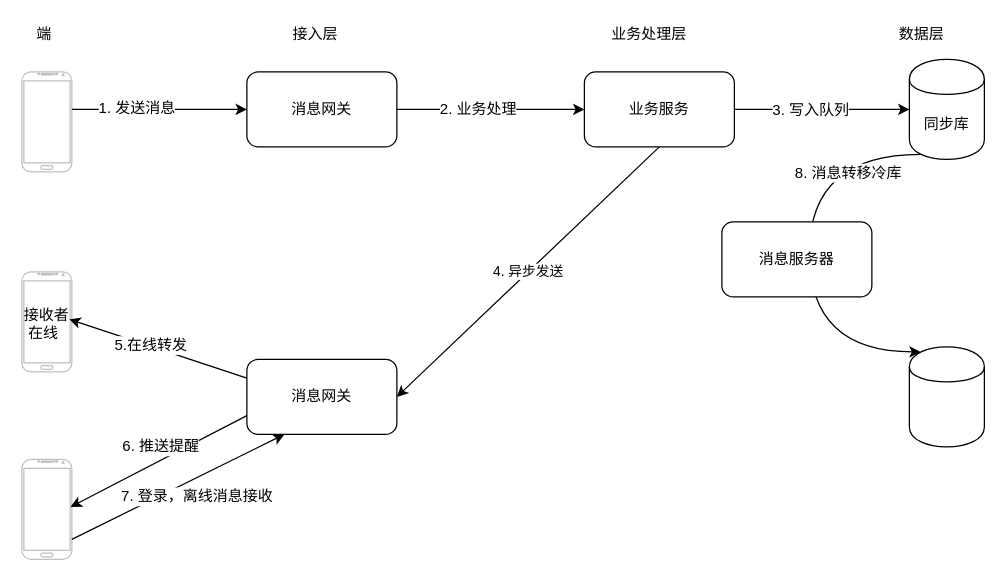
Image size: 1006x581. Some labels were removed from this diagram. Each missing label, with the centre of its shape:
"历史库" goes at (x=946, y=396).
"发送者" goes at (x=46, y=121).
"接收者 离线" goes at (x=46, y=508).
